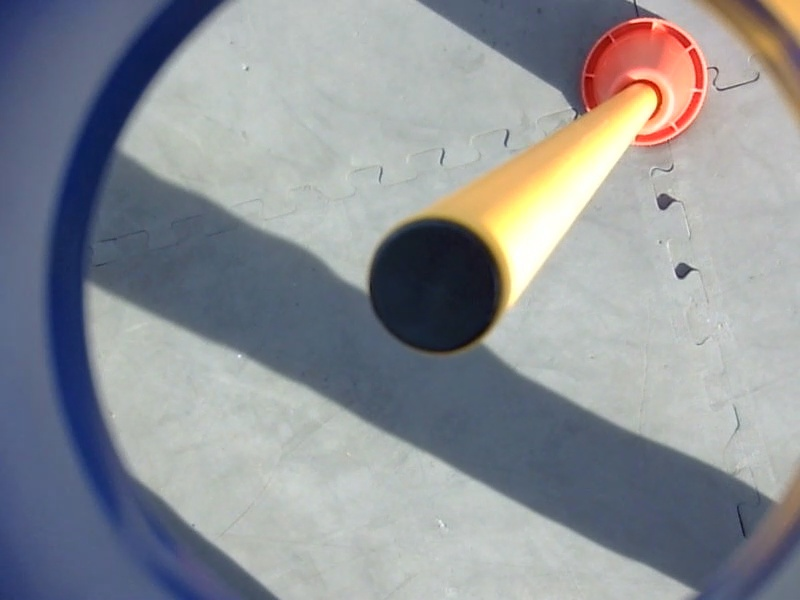tip: (359, 209, 518, 364)
